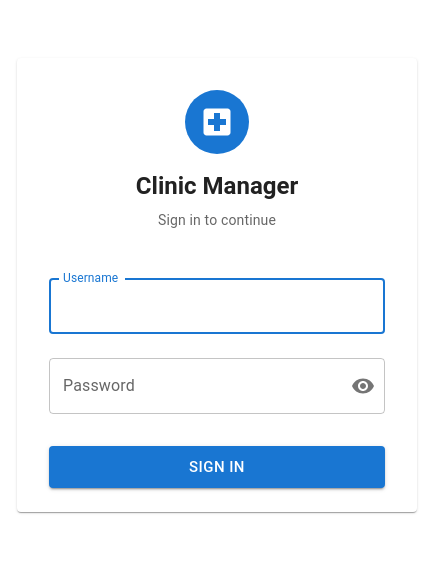
it: Login Component › Form Validation › should show error when password is empty
Type "testuser" into the field labelled "Username" at [217, 306], box [49,278,385,334]
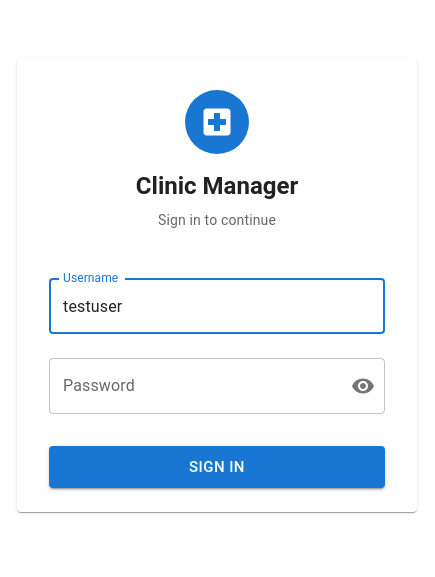
Click the button "Sign In" at [217, 467], box [49,446,385,488]
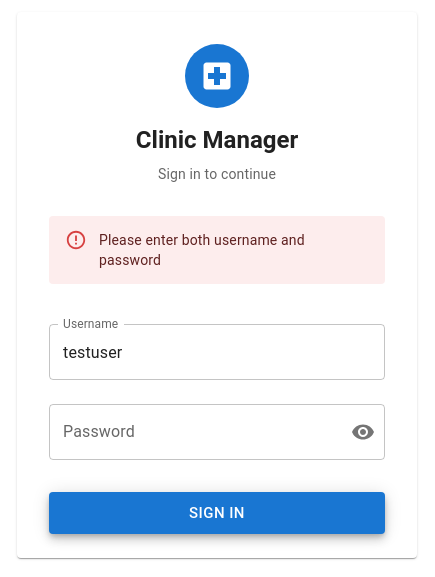
Now the text "Please enter both username and password" is shown, box [99,232,305,268]
